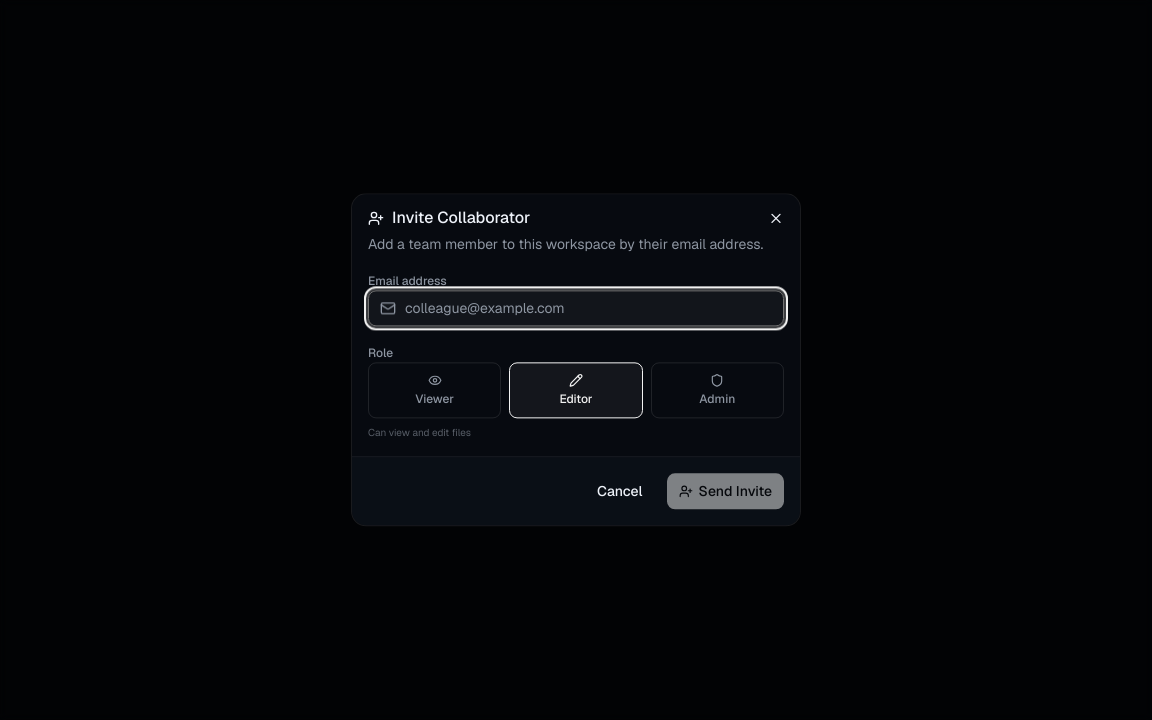
InviteCollaboratorDialog › enables submit when email is provided
Type "test@example.com" into the field with placeholder "colleague@example.com".
click(576, 308); type("test@example.com")  # box [368,290,784,326]
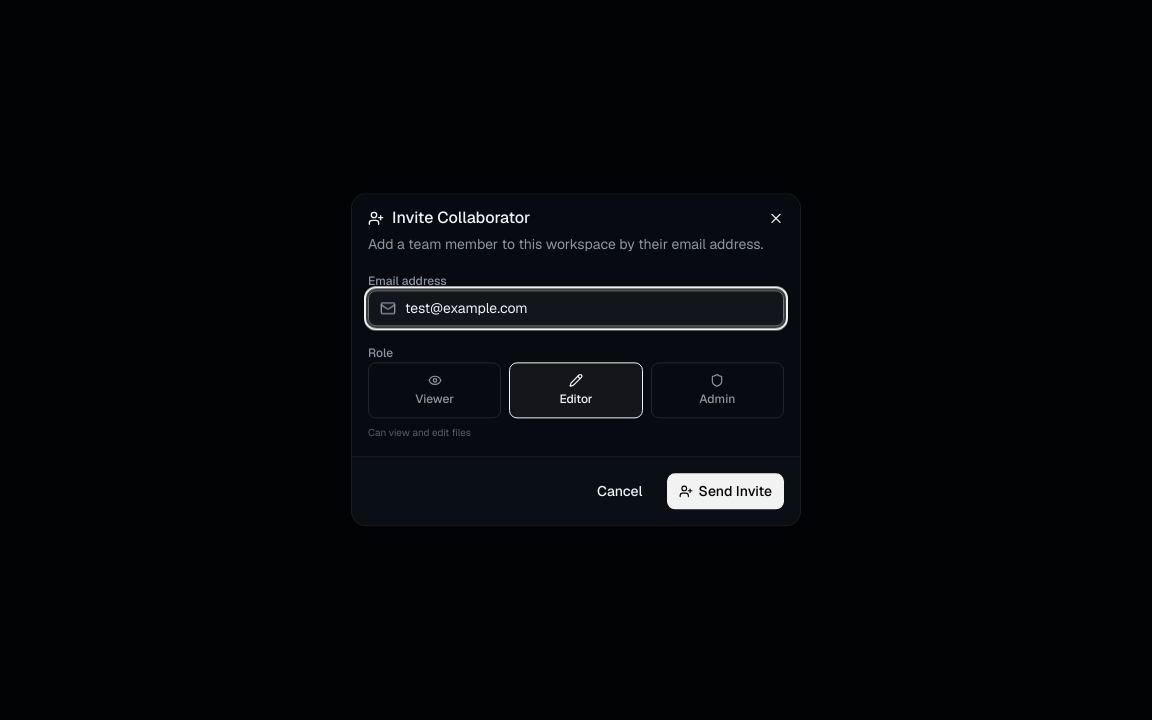
Expected: the button "Send Invite" is enabled, [667,474,784,510]
